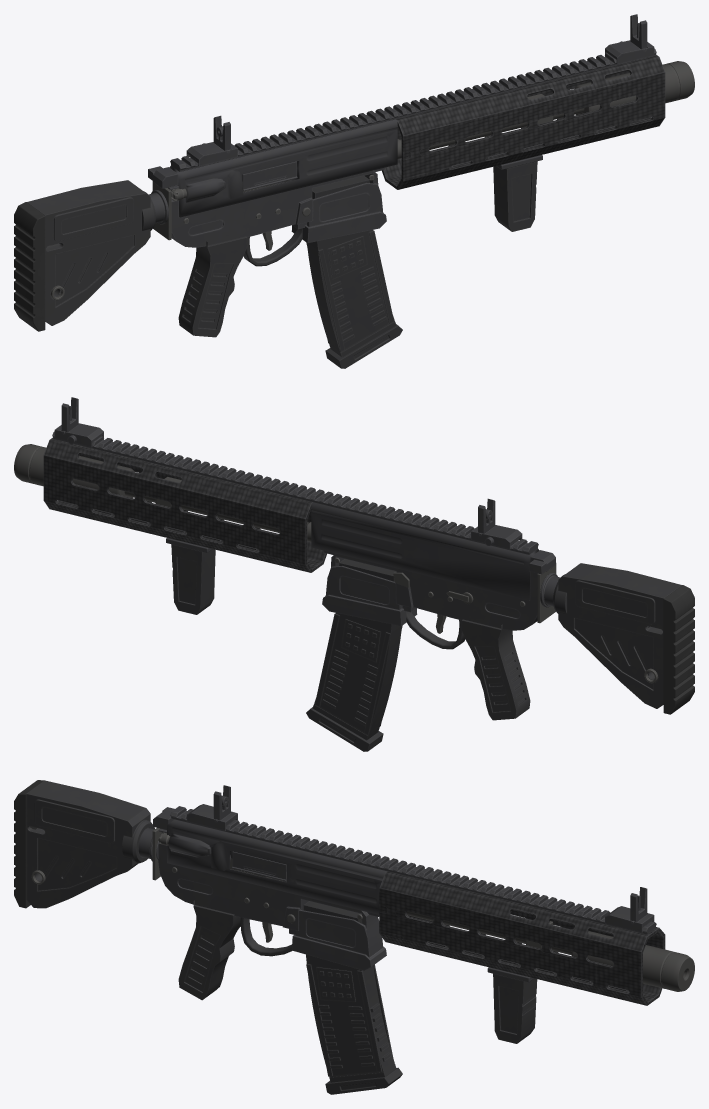
The model's file is Modern_M4.gltf.
3 renders of one model, top to bottom at view 1: azimuth 30°, elevation 25°; view 2: azimuth 150°, elevation 25°; view 3: azimuth 330°, elevation 25°, orthographic.
Parts seen in each view (by area): view 1: handguard, stock, receiver_upper, receiver_lower, magazine, rail_top, grip, butt_pad, vertical_grip, muzzle_can, mag_floorplate, dust_cover (+4 smaller); view 2: handguard, stock, receiver_upper, receiver_lower, magazine, rail_top, grip, butt_pad, vertical_grip, muzzle_can, mag_floorplate, sight_rear (+3 smaller); view 3: handguard, stock, receiver_lower, receiver_upper, magazine, rail_top, grip, vertical_grip, muzzle_can, butt_pad, dust_cover, mag_floorplate (+6 smaller).
Part boxes in pixels (bbox=[...]): handguard: bbox=[382, 54, 665, 189]; stock: bbox=[27, 180, 155, 325]; receiver_upper: bbox=[169, 119, 397, 217]; receiver_lower: bbox=[167, 167, 386, 247]; magazine: bbox=[306, 176, 396, 357]; rail_top: bbox=[170, 48, 656, 171]; grip: bbox=[178, 236, 247, 337]; butt_pad: bbox=[14, 202, 45, 331]; vertical_grip: bbox=[493, 161, 537, 231]; muzzle_can: bbox=[574, 61, 694, 114]; mag_floorplate: bbox=[325, 324, 402, 368]; dust_cover: bbox=[242, 161, 297, 191]; handguard: bbox=[43, 437, 326, 572]; stock: bbox=[553, 563, 681, 708]; receiver_upper: bbox=[311, 502, 539, 600]; receiver_lower: bbox=[322, 550, 537, 630]; magazine: bbox=[312, 559, 402, 740]; rail_top: bbox=[52, 431, 538, 554]; grip: bbox=[461, 619, 530, 720]; butt_pad: bbox=[663, 585, 694, 714]; vertical_grip: bbox=[171, 544, 215, 614]; muzzle_can: bbox=[14, 444, 134, 497]; mag_floorplate: bbox=[306, 707, 383, 751]; sight_rear: bbox=[471, 525, 522, 549]; handguard: bbox=[379, 871, 665, 1005]; stock: bbox=[26, 780, 154, 908]; receiver_lower: bbox=[158, 829, 386, 970]; receiver_upper: bbox=[167, 819, 386, 914]; magazine: bbox=[303, 901, 396, 1082]; rail_top: bbox=[170, 806, 656, 934]; grip: bbox=[178, 900, 240, 1000]; vertical_grip: bbox=[493, 973, 537, 1043]; muzzle_can: bbox=[571, 931, 694, 991]; butt_pad: bbox=[14, 780, 44, 908]; dust_cover: bbox=[232, 851, 286, 881]; mag_floorplate: bbox=[325, 1067, 402, 1094].
Size of the model in its own units: 0.7515 by 0.2953 by 0.047.
Materials: 1 (1 with a texture image).
